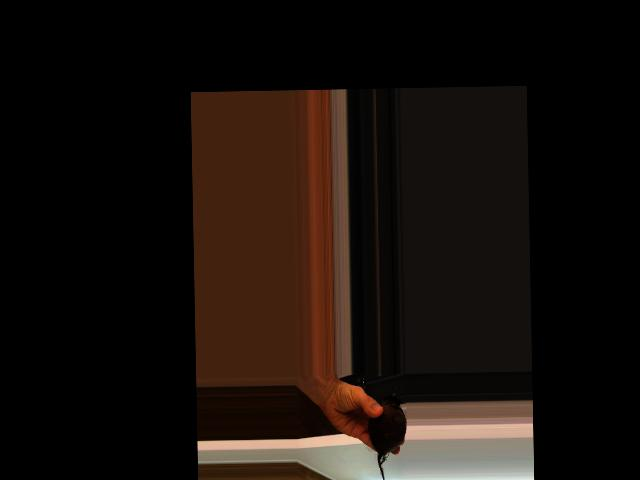beet: (368, 389, 408, 480)
